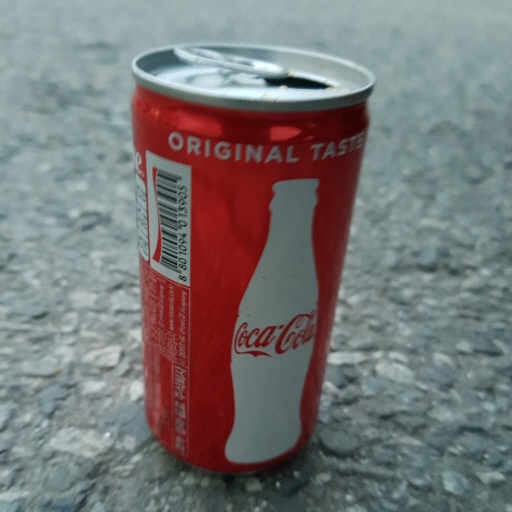Metal_0: (130, 43, 381, 479)
